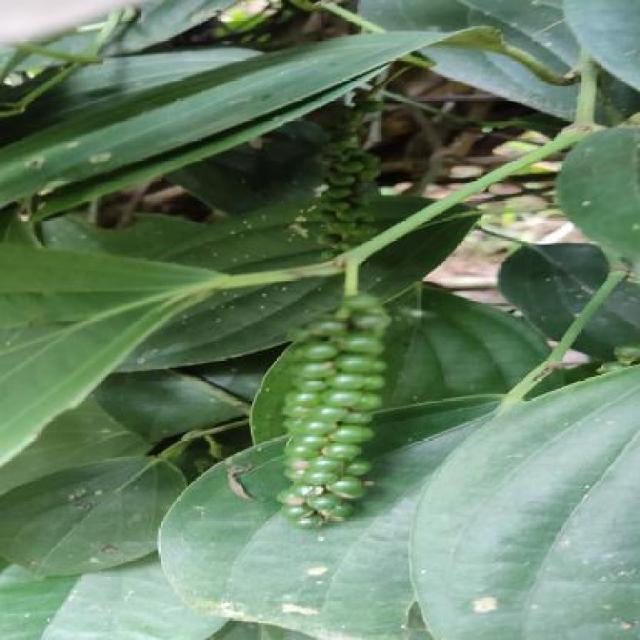UNRIPE: (279, 293, 390, 527), (315, 148, 382, 237)
